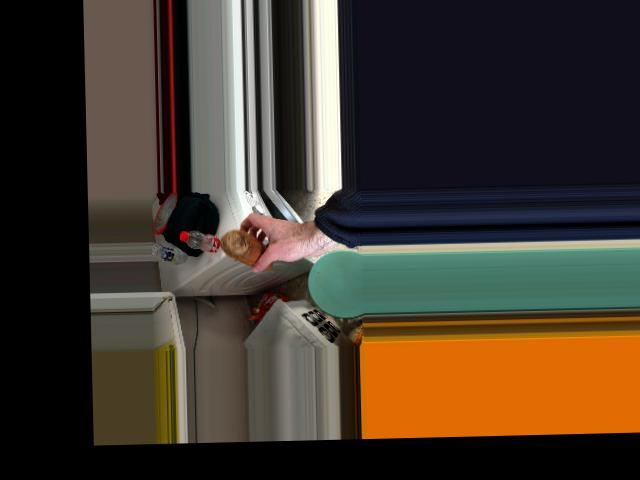sweet_potato: (223, 226, 280, 274)
